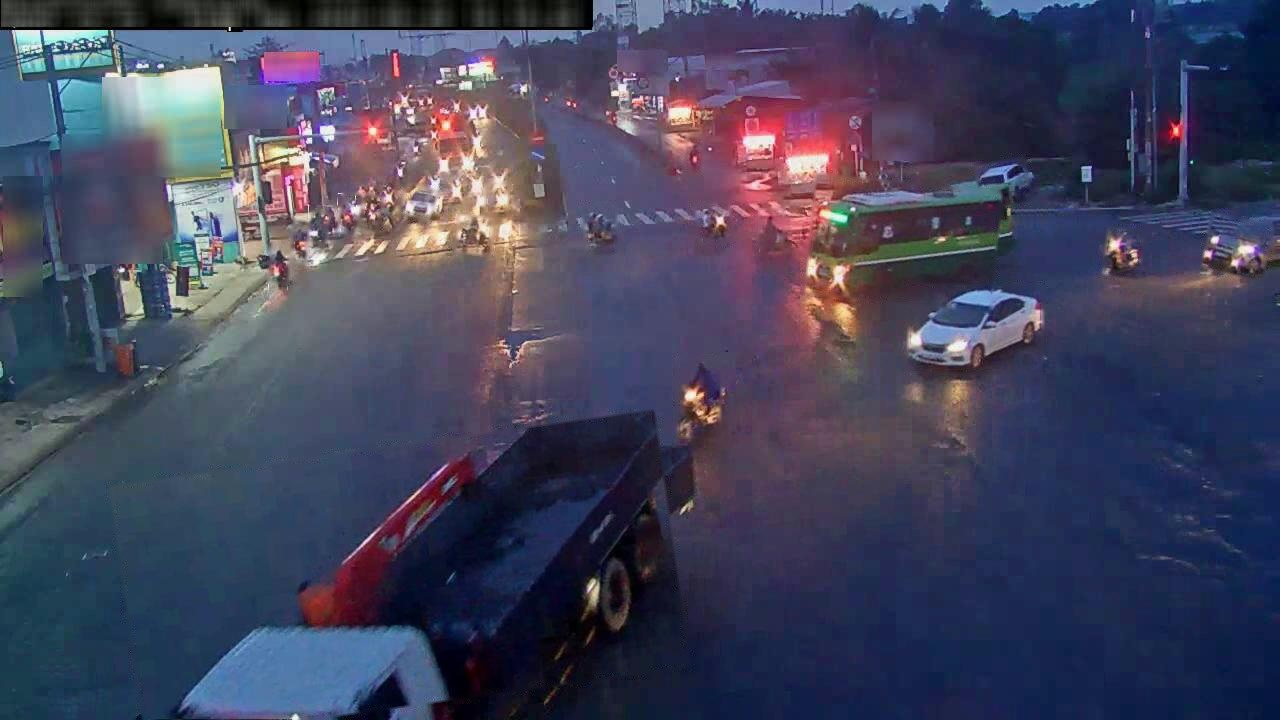Bus: (805, 182, 1012, 293)
Car: (907, 290, 1043, 370), (1202, 233, 1266, 274), (978, 162, 1034, 199), (405, 189, 441, 221), (476, 187, 514, 215)
Motorcycle: (1104, 232, 1141, 272)
Motorcyclist: (677, 363, 724, 440), (458, 217, 492, 253), (584, 211, 616, 248), (698, 206, 727, 240), (760, 214, 783, 253), (267, 250, 289, 290), (337, 196, 358, 235), (308, 209, 328, 249), (362, 197, 382, 230), (292, 224, 308, 262), (687, 141, 702, 174)
Truck: (299, 411, 695, 704), (176, 626, 448, 719)
